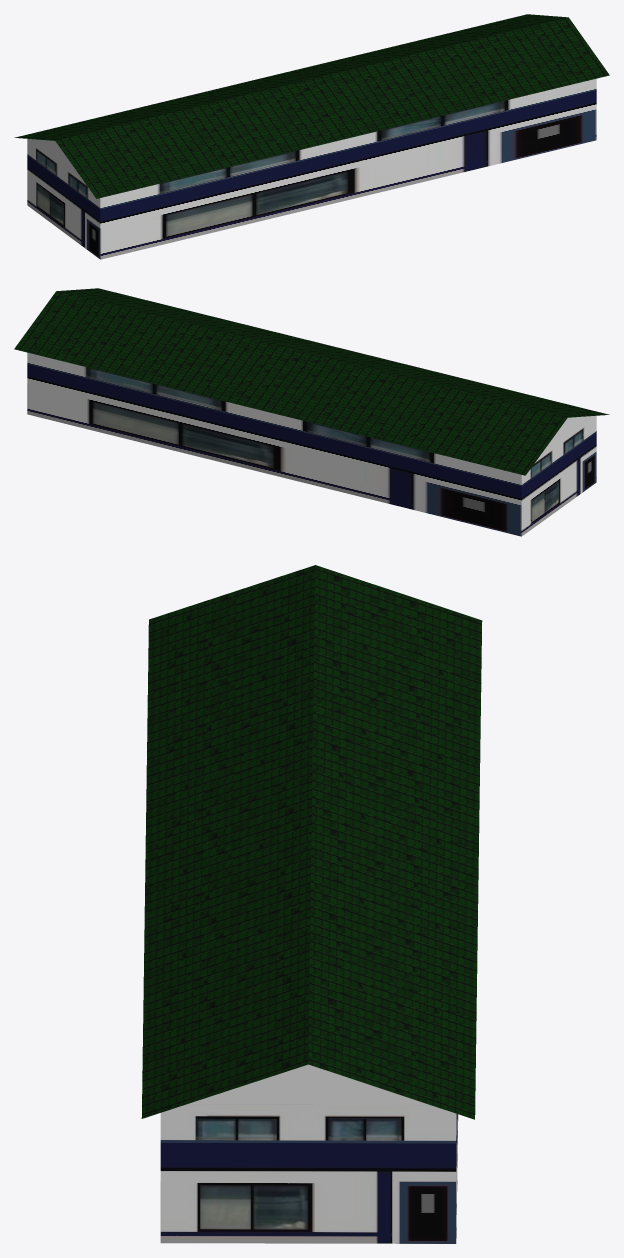
The picture shows the model from 3 angles, top to bottom: view 1: azimuth 30°, elevation 25°; view 2: azimuth 150°, elevation 25°; view 3: azimuth 270°, elevation 25°; orthographic projection. The views are drawn at different scales.
Parts seen in each view (by area): view 1: CityEngineMaterial_13_m, CityEngineMaterial_2_m, CityEngineMaterial_3_m; view 2: CityEngineMaterial_13_m, CityEngineMaterial_2_m, CityEngineMaterial_3_m; view 3: CityEngineMaterial_13_m, CityEngineMaterial_2_m, CityEngineMaterial_3_m.
Boxes of the visible parts, x1,y1,x2,y2 form: CityEngineMaterial_13_m: (14, 14, 609, 198); CityEngineMaterial_2_m: (27, 78, 596, 259); CityEngineMaterial_3_m: (32, 139, 78, 173); CityEngineMaterial_13_m: (14, 288, 609, 475); CityEngineMaterial_2_m: (27, 352, 596, 536); CityEngineMaterial_3_m: (544, 416, 591, 450); CityEngineMaterial_13_m: (141, 565, 482, 1119); CityEngineMaterial_2_m: (160, 1104, 458, 1243); CityEngineMaterial_3_m: (186, 1064, 429, 1104).
Bounding box in the file's own units: 59.2 × 10.35 × 17.02.
